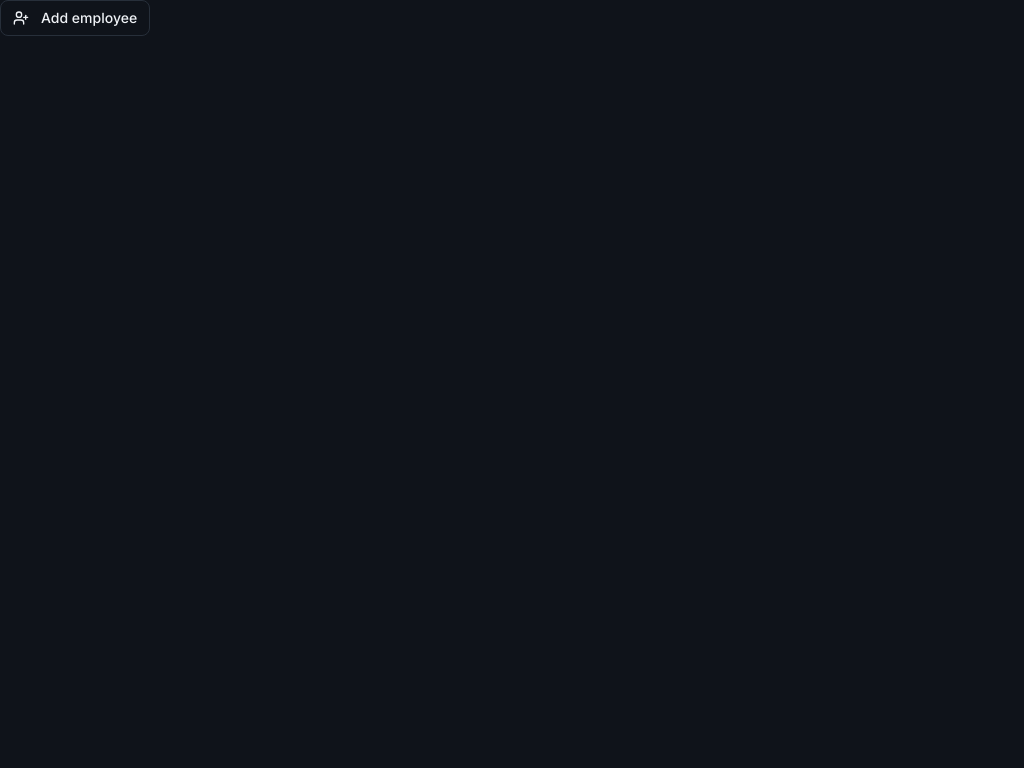
Scenario: AddEmployeeDialog › asks again when the name is retyped into another lookalike
Click the button "Add employee": [75, 18] box [0,0,150,36]
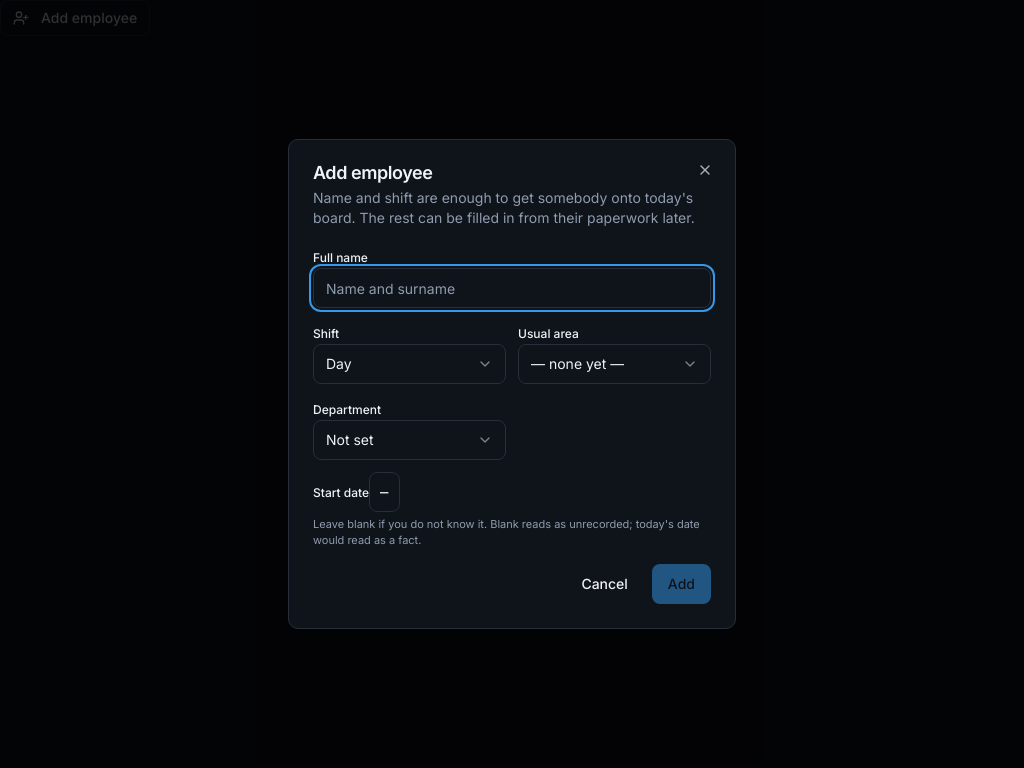
In the field labelled "Full name": [512, 288] box [313,268,711,308], type "Felipe Araujo"
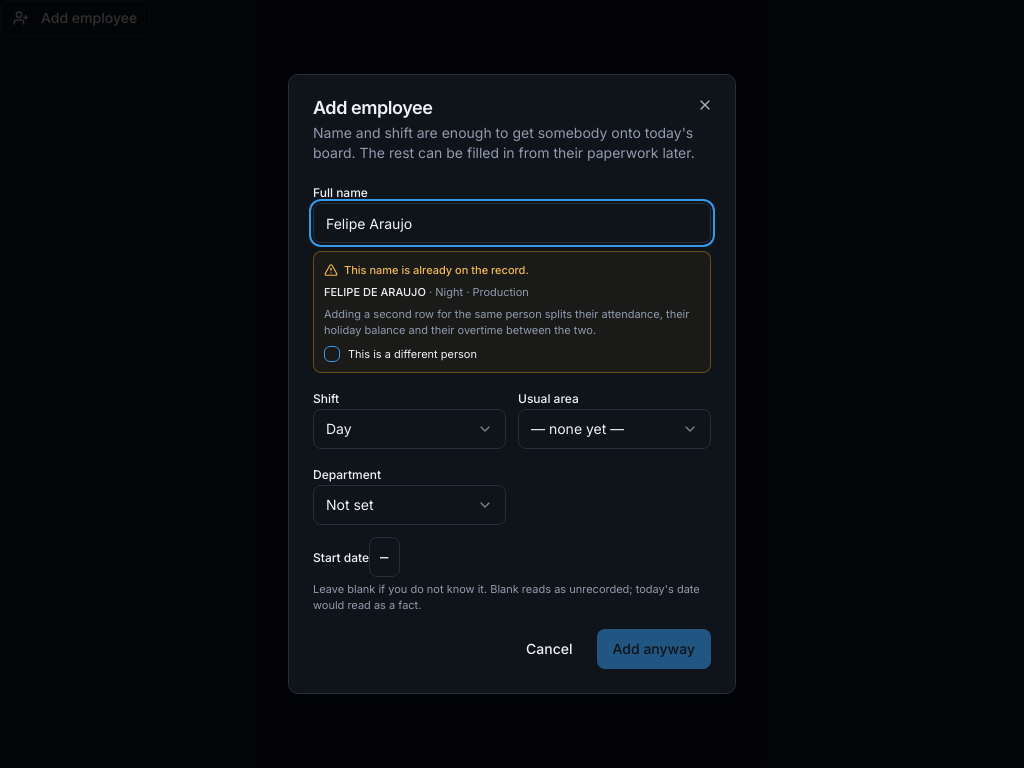
Click the checkbox named "different person": [332, 354] box [324,346,340,362]
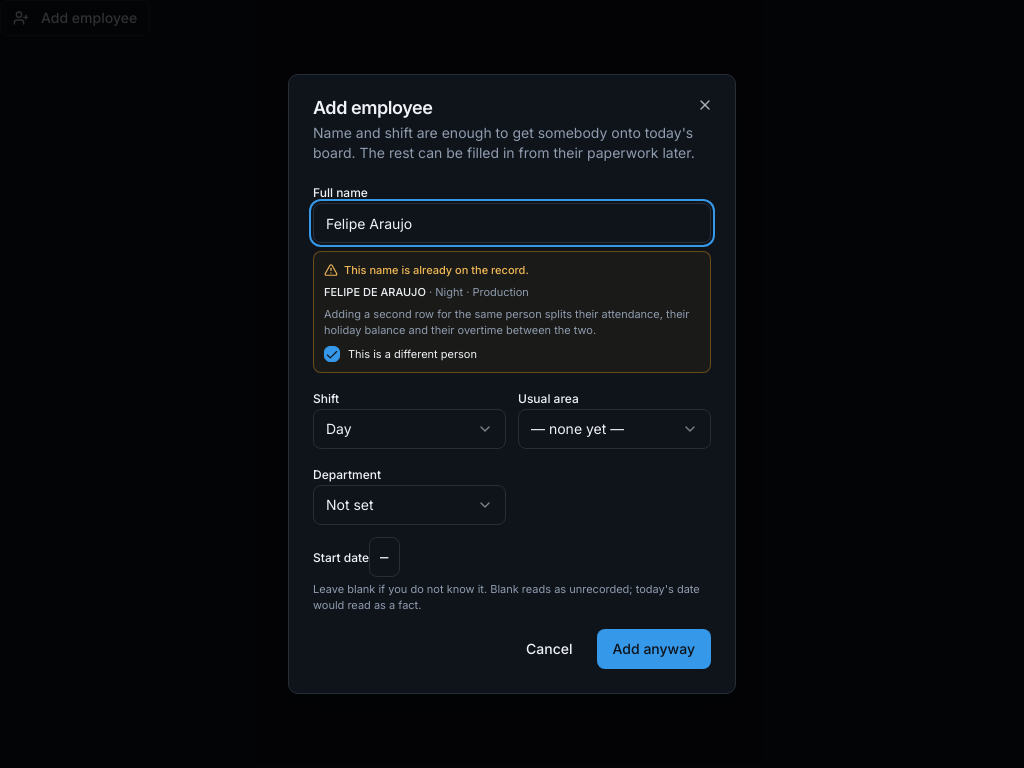
Expected: the button "Add anyway" is enabled, [596,629,711,669]
Replace the text in the field labelled "Full name" with "Ezaquiel Santos": [512, 223] box [313,203,711,243]
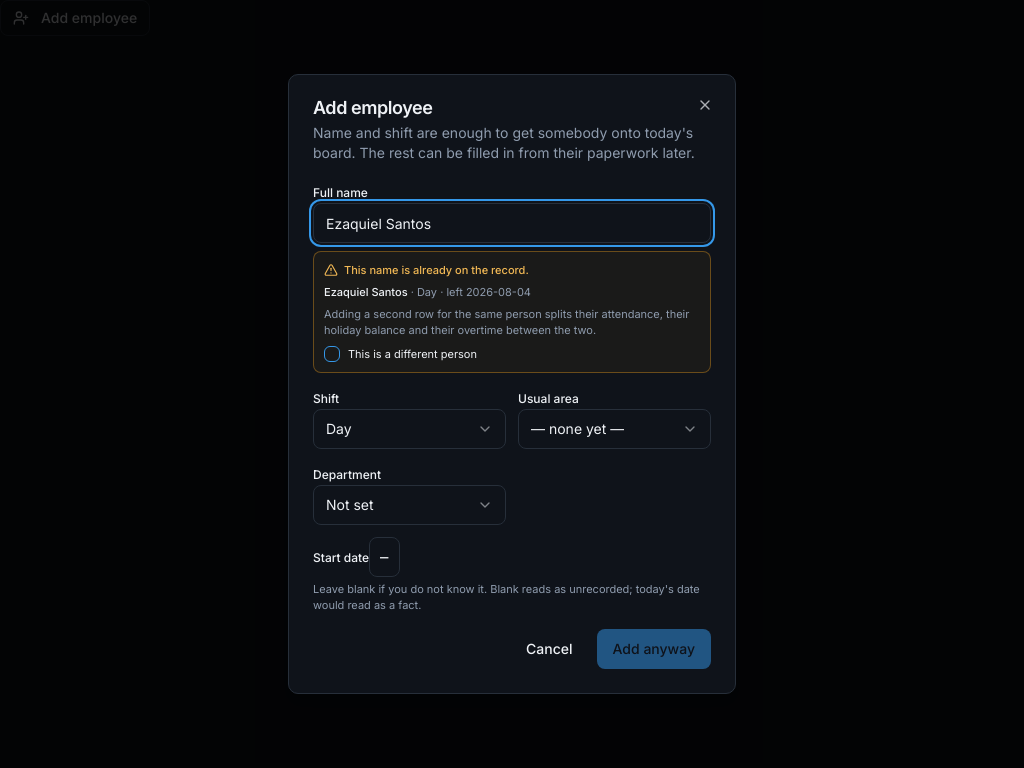
Expected: the button "Add anyway" is disabled, [596,629,711,669]
